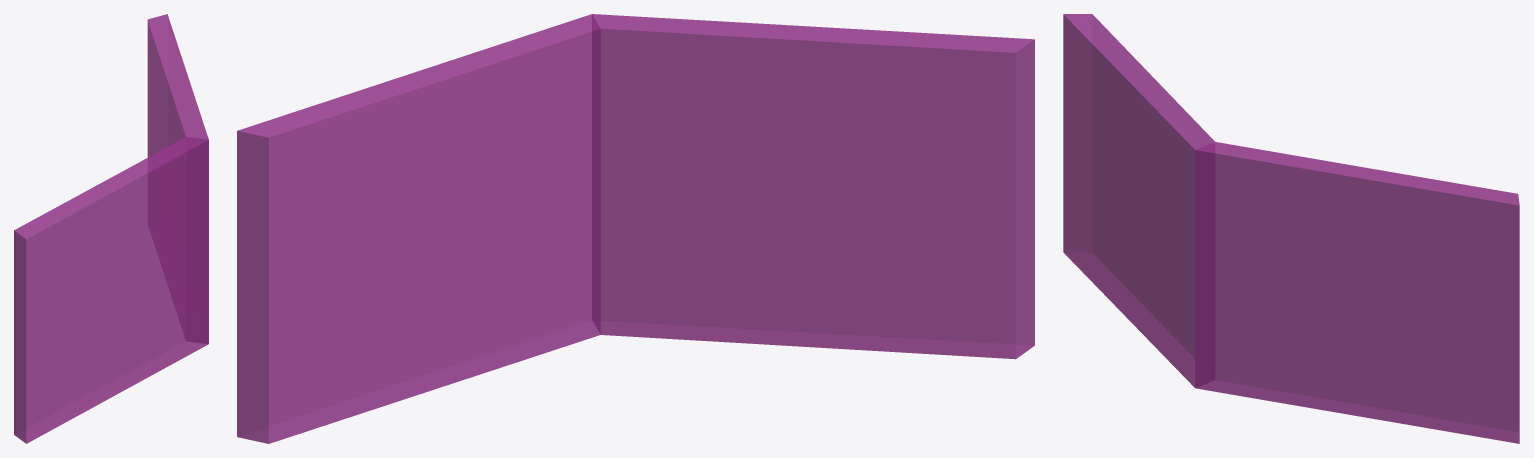
Rendered from SM_Bld_Wall_Curved_Large_02_Collision.fbx.
3 views of the same model, side by side, from view 1: azimuth 30°, elevation 25°; view 2: azimuth 150°, elevation 25°; view 3: azimuth 270°, elevation 25° (orthographic). The views are drawn at different scales.
Visible parts, largest first — view 1: SM_Bld_Wall_Curved_Large_02_Collision; view 2: SM_Bld_Wall_Curved_Large_02_Collision; view 3: SM_Bld_Wall_Curved_Large_02_Collision.
Boxes of the visible parts, x1=… form: SM_Bld_Wall_Curved_Large_02_Collision: x1=14, y1=14, x2=208, y2=443; SM_Bld_Wall_Curved_Large_02_Collision: x1=237, y1=14, x2=1034, y2=443; SM_Bld_Wall_Curved_Large_02_Collision: x1=1063, y1=14, x2=1519, y2=443.
Bounding box in the file's own units: 519 × 301 × 522.
